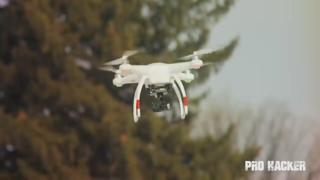UAV: (100, 48, 221, 123)
